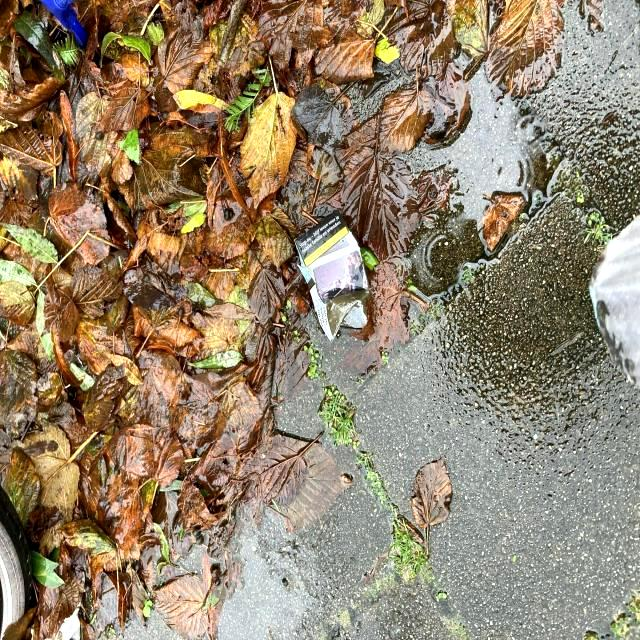Paper: (293, 208, 372, 342)
